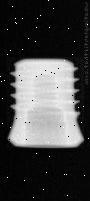AGS Medikal: (5, 56, 84, 149)
